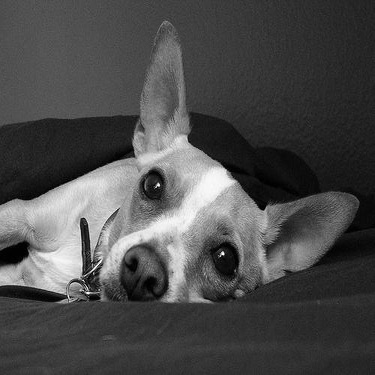dog: (4, 15, 360, 305)
